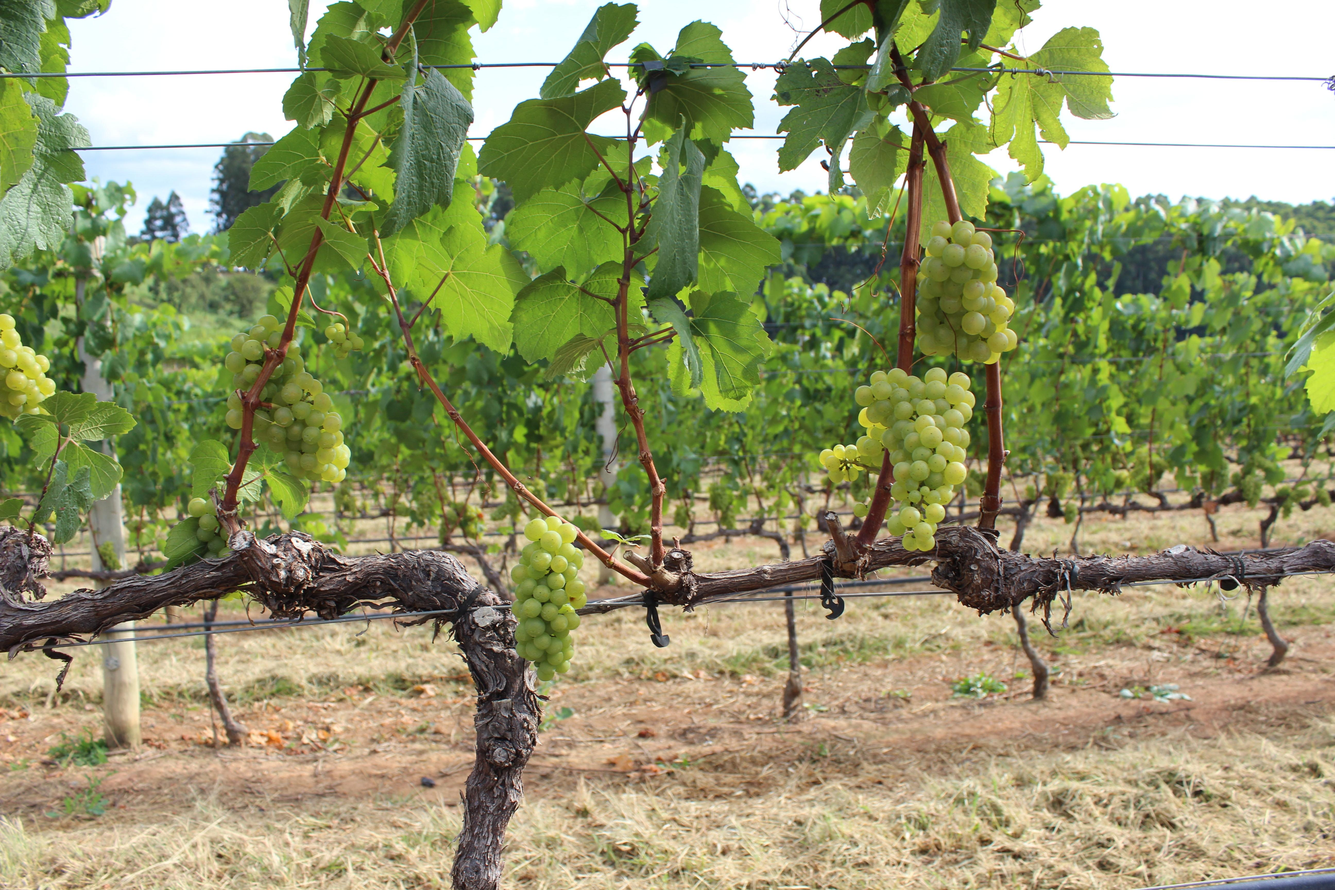leaf: (478, 79, 626, 203), (381, 69, 473, 235), (645, 21, 754, 144), (505, 184, 627, 279), (775, 58, 873, 171), (645, 119, 705, 300), (511, 267, 616, 362), (540, 3, 637, 98), (698, 186, 780, 295), (914, 0, 997, 81), (249, 125, 323, 192), (0, 79, 37, 194), (322, 35, 406, 80), (631, 45, 653, 62), (646, 128, 657, 141), (716, 192, 720, 193), (618, 265, 619, 268), (611, 264, 617, 264)
